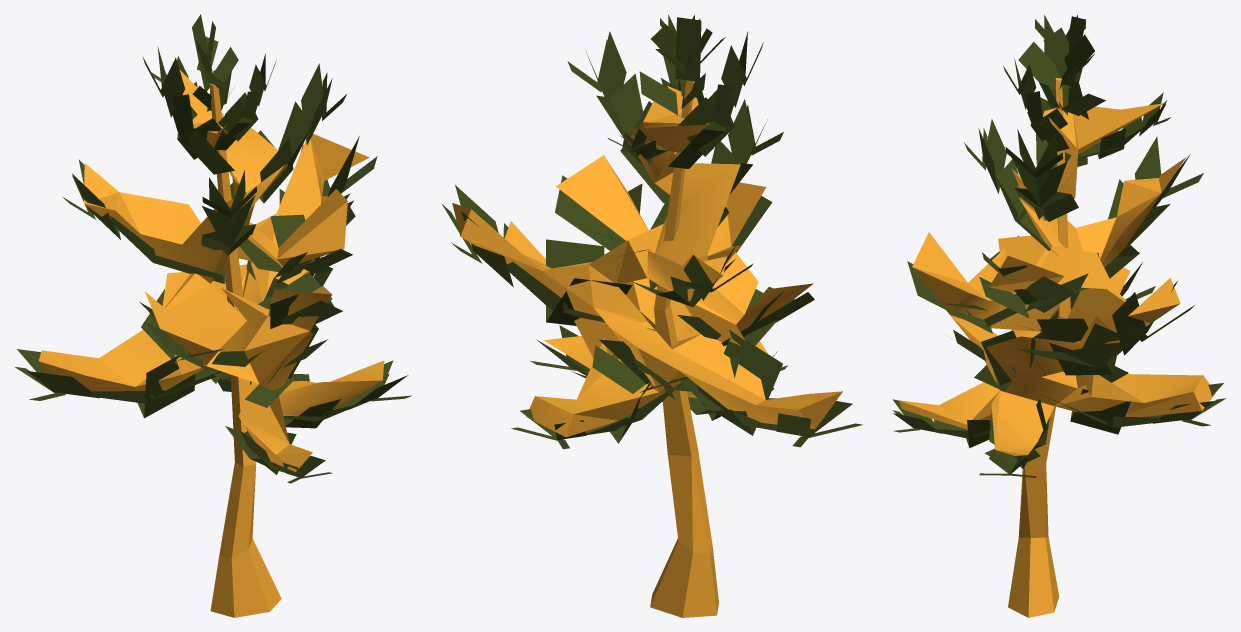
File: SM_Tree_Pine_Sapling_A_Snow.fbx
The picture shows the model from 3 angles, left to right: view 1: azimuth 30°, elevation 25°; view 2: azimuth 150°, elevation 25°; view 3: azimuth 270°, elevation 25°; orthographic projection. The views are drawn at different scales.
Visible parts, largest first — view 1: tree-pine-sapling-a-snow; view 2: tree-pine-sapling-a-snow; view 3: tree-pine-sapling-a-snow.
Boxes of the visible parts, x1=… form: tree-pine-sapling-a-snow: x1=15, y1=14, x2=411, y2=617; tree-pine-sapling-a-snow: x1=441, y1=14, x2=862, y2=617; tree-pine-sapling-a-snow: x1=892, y1=15, x2=1225, y2=617.
Size of the model in its own units: 1.03 by 1.52 by 0.8041.
